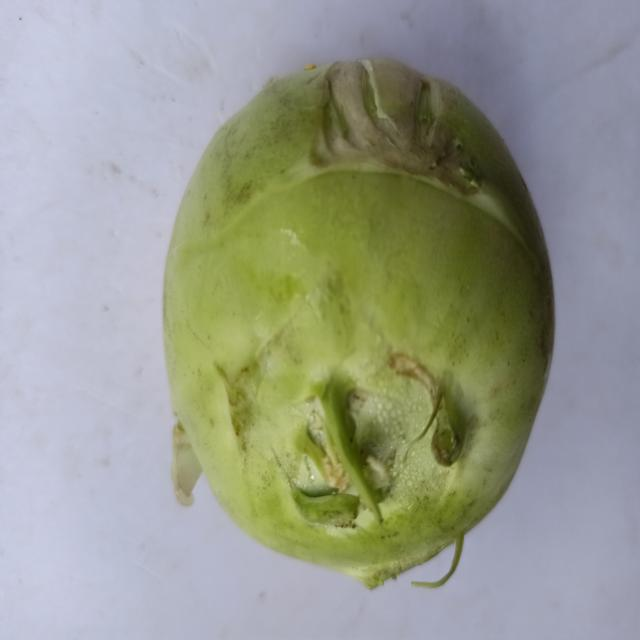Turnip: (148, 43, 585, 610)
